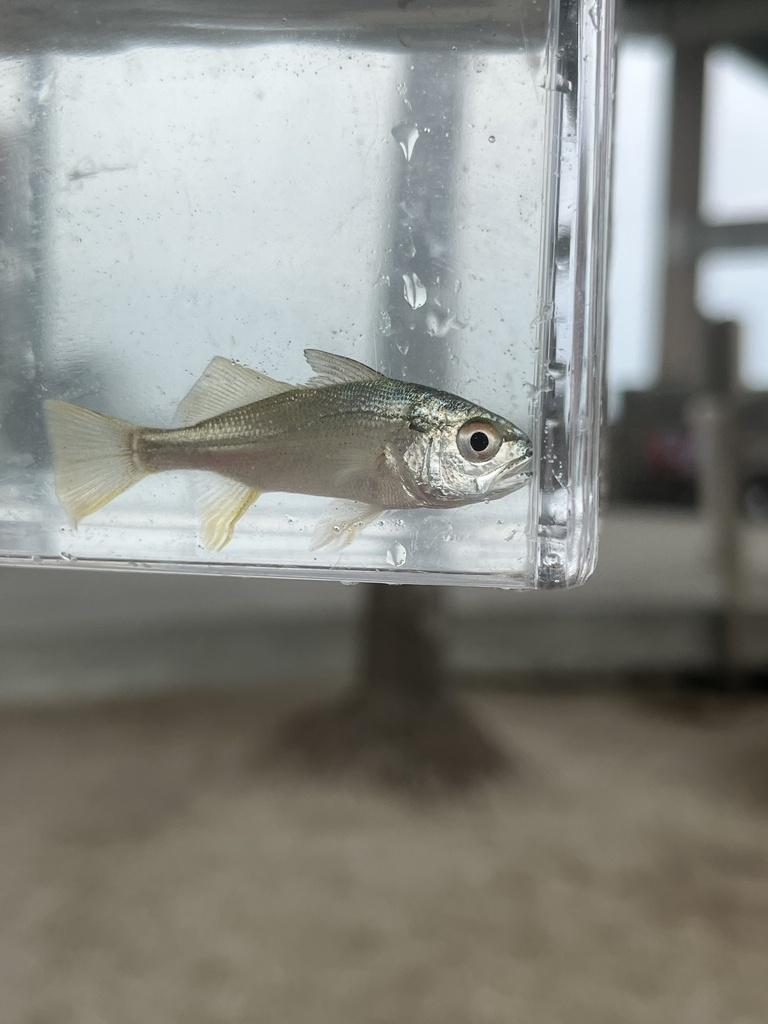Silver Perch: (38, 330, 530, 562)
